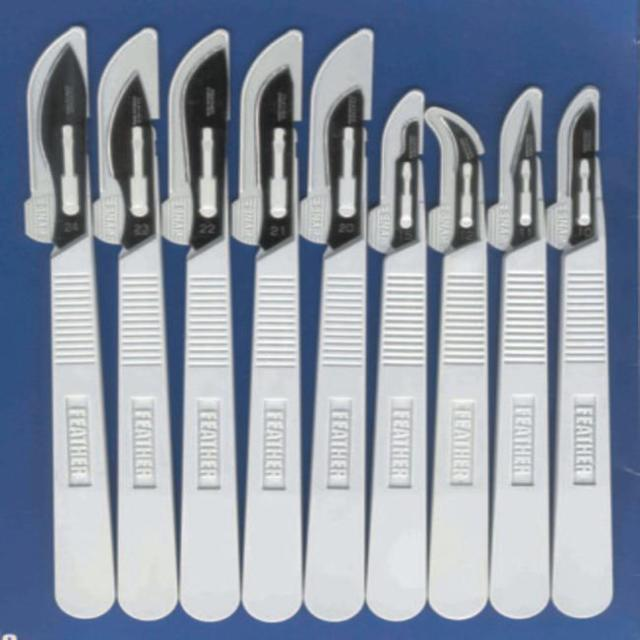B3: (24, 13, 115, 622), (95, 23, 179, 617), (162, 18, 242, 622), (232, 31, 308, 622), (300, 24, 373, 622), (548, 84, 616, 619), (488, 88, 556, 620), (364, 88, 428, 622), (430, 105, 488, 620)
